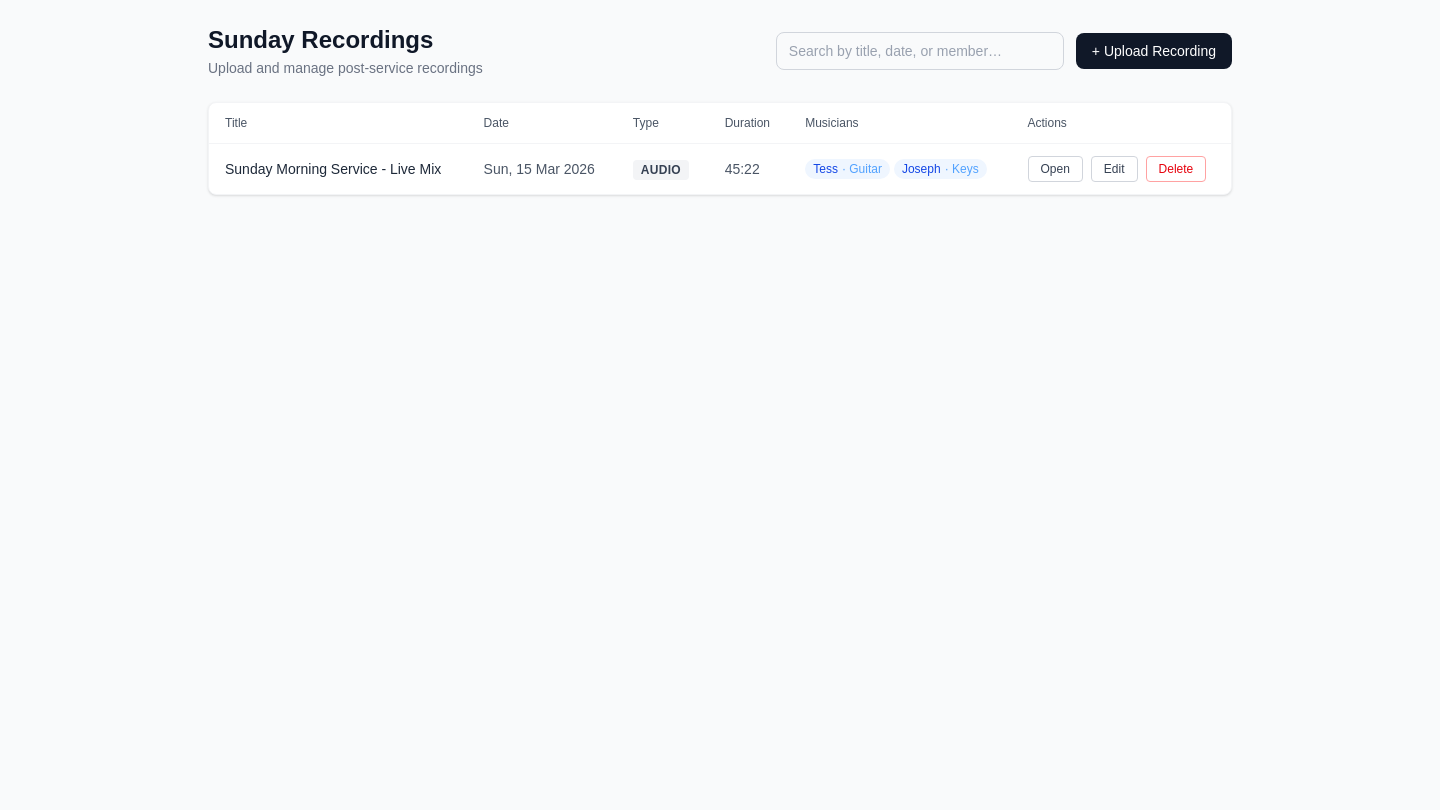
AdminRecordingsPage › opens upload modal with all required fields when button clicked
Click the button "+ Upload Recording" at (1154, 51), box [1076,33,1232,69]
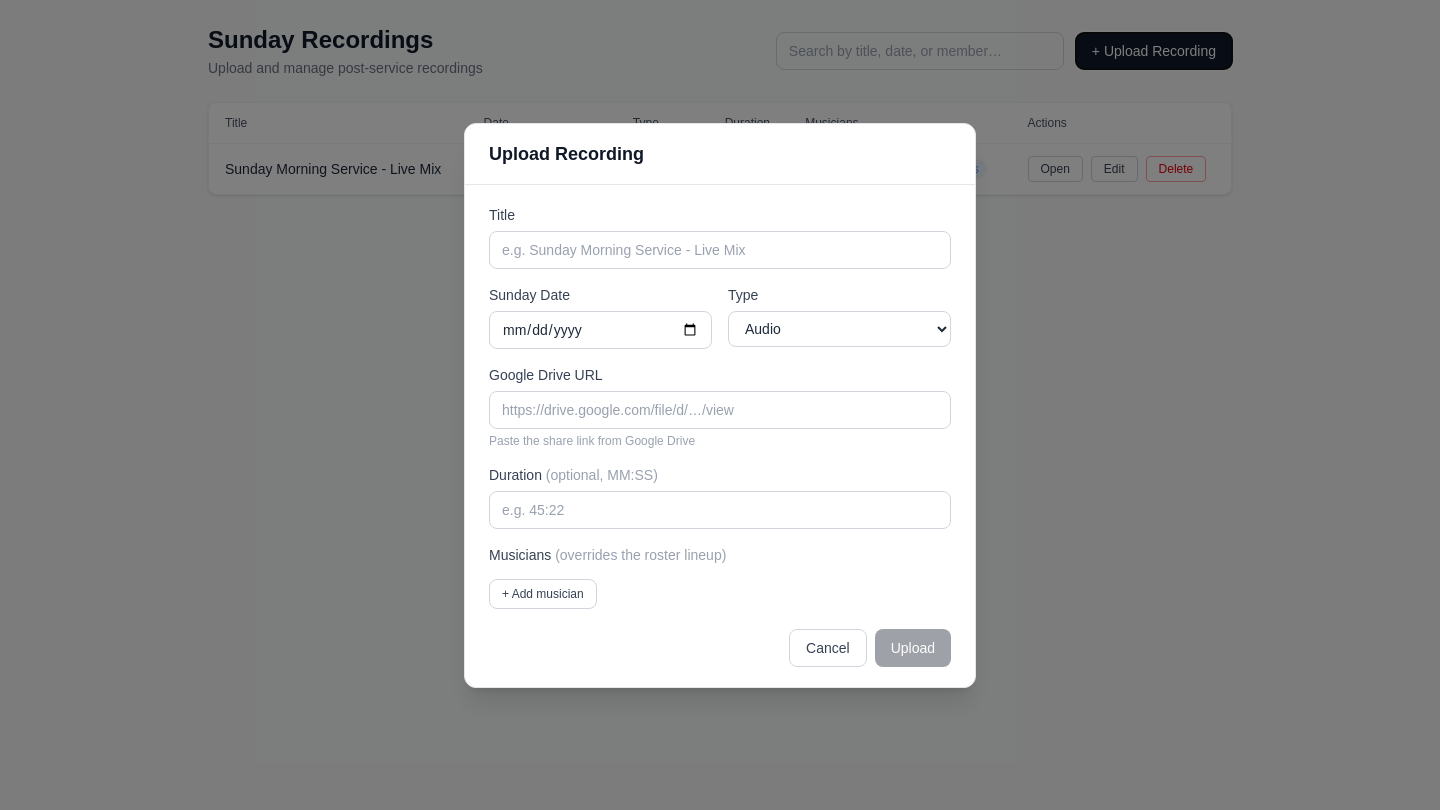
Result: the field with placeholder "e.g. Sunday Morning Service - Live Mix" is shown at [489,230,951,268]
Result: the field with placeholder "https://drive.google.com/file/d/…/view" is shown at [489,390,951,428]
Result: the field with placeholder "e.g. 45:22" is shown at [489,490,951,528]
